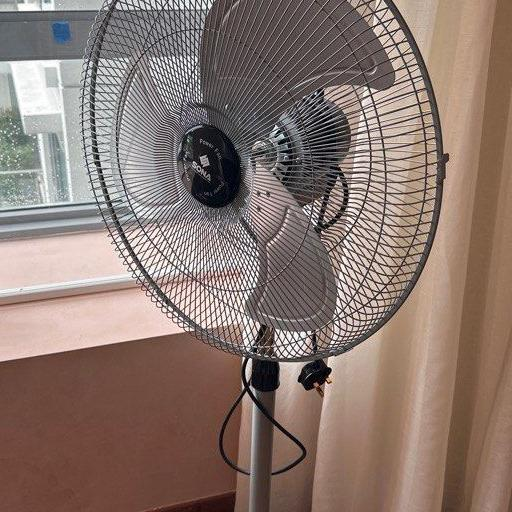Fan: (83, 0, 446, 362)
